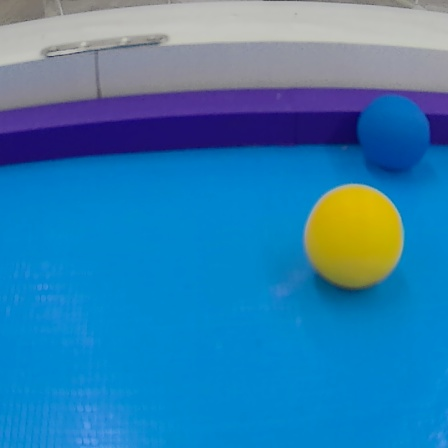blue: (354, 92, 431, 177)
blue_aim: (3, 87, 448, 448)
yellow: (305, 182, 409, 295)
